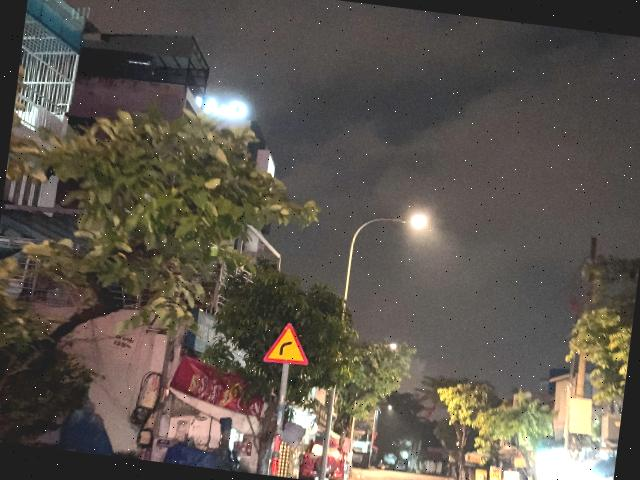cho-ngoat-nguy-hiem-ben-trai: (262, 320, 312, 368)
